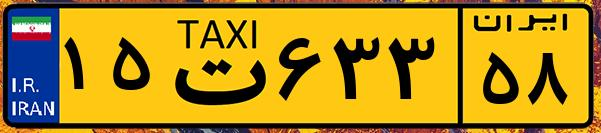1: (57, 26, 110, 100)
3: (385, 28, 445, 110), (330, 28, 385, 110)
5: (475, 38, 525, 113), (110, 28, 158, 98)
6: (270, 28, 330, 110)
8: (525, 38, 570, 115)
ت: (158, 12, 270, 120)
